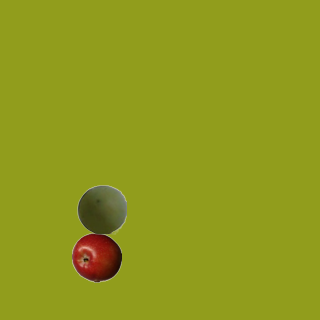Apple Braeburn: (71, 232, 121, 282)
Grape White 4: (76, 184, 126, 234)
